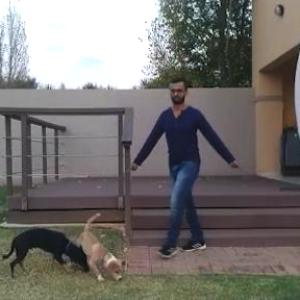land: (130, 81, 243, 266)
